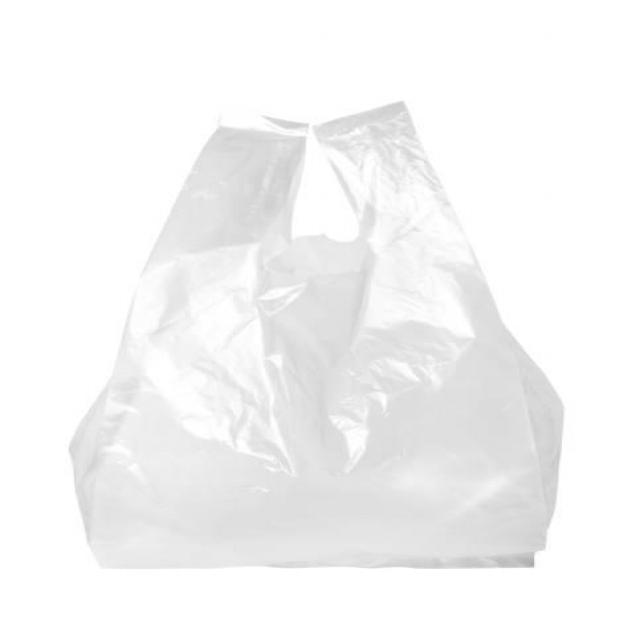plastic_bag: (86, 91, 580, 602)
